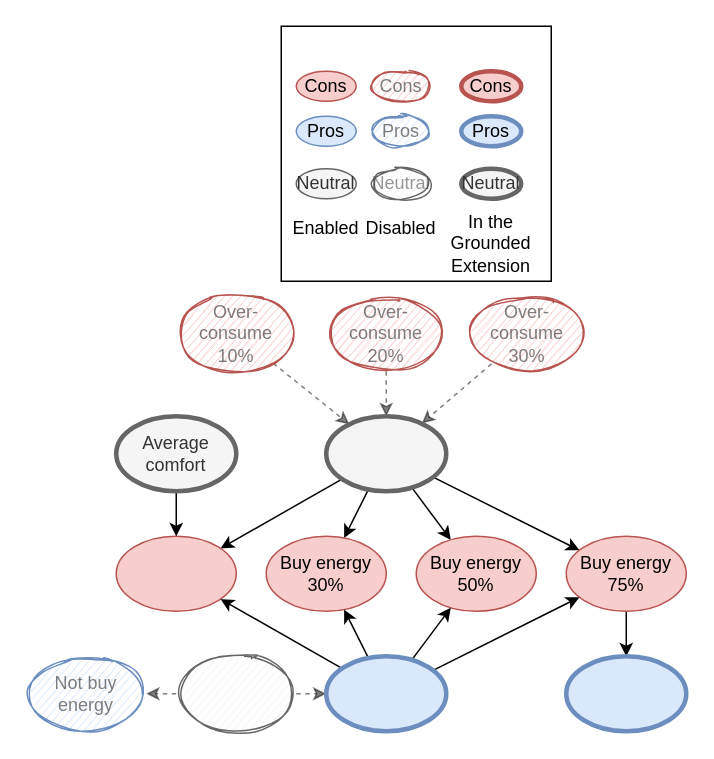
Image size: 714x759. Some labels were removed from this diagram. Here are the shapes that lost their labels. From the top down, the box of each, then its label:
(280, 25, 551, 281): Legend
(323, 413, 448, 493): Good comfort
(115, 535, 236, 611): Buy energy 10%
(175, 655, 296, 731): Bad comfort
(323, 653, 448, 733): Positive payoff
(563, 653, 688, 733): Bias
